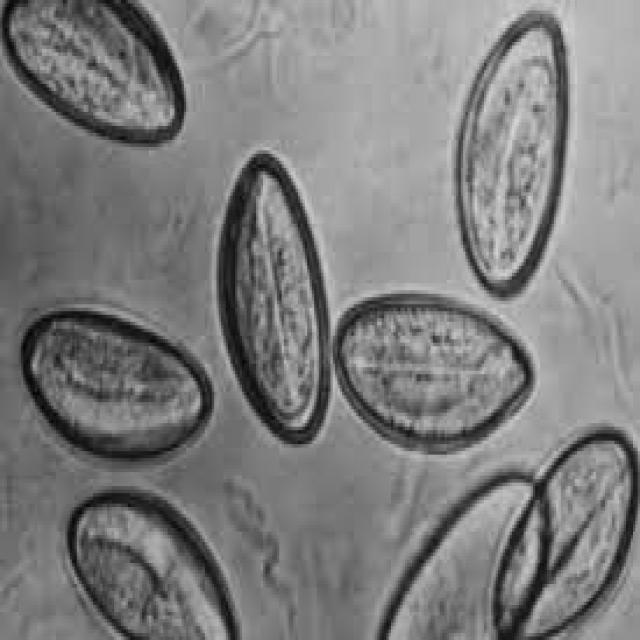Enterobius Vermicularis: (447, 0, 577, 308), (326, 285, 542, 467), (13, 283, 220, 472), (214, 140, 338, 451), (366, 458, 558, 637), (486, 416, 638, 637), (0, 0, 196, 155), (60, 479, 252, 637)
